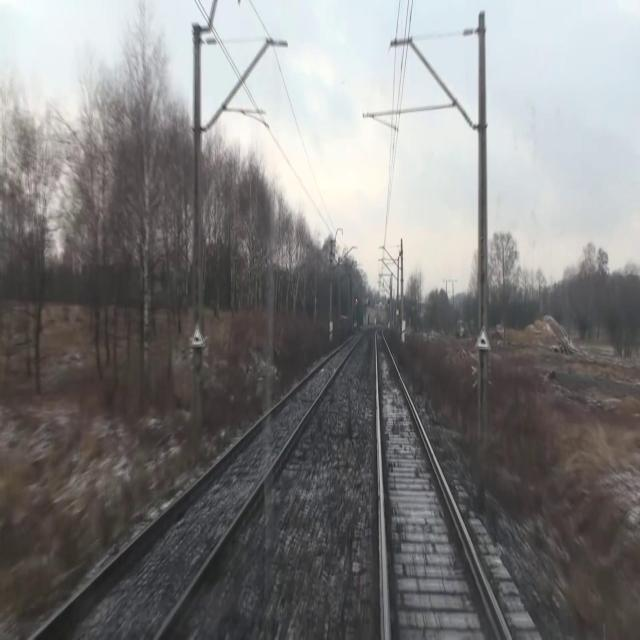rail-track: (35, 334, 359, 639), (377, 329, 505, 639)
